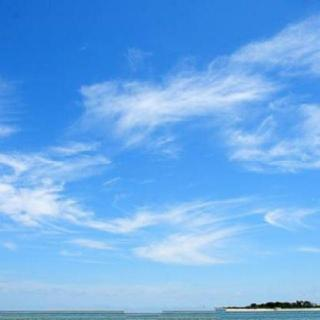Cirrus: (0, 0, 320, 292)
